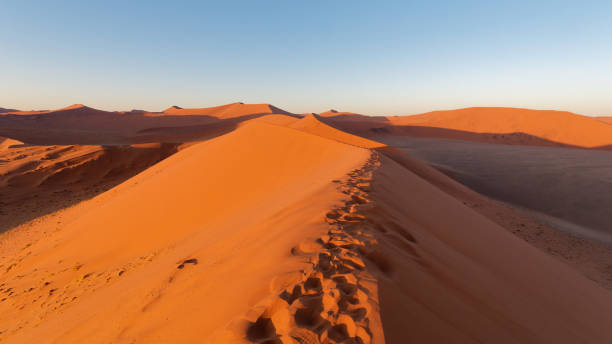human_footprint: (243, 153, 391, 343)
